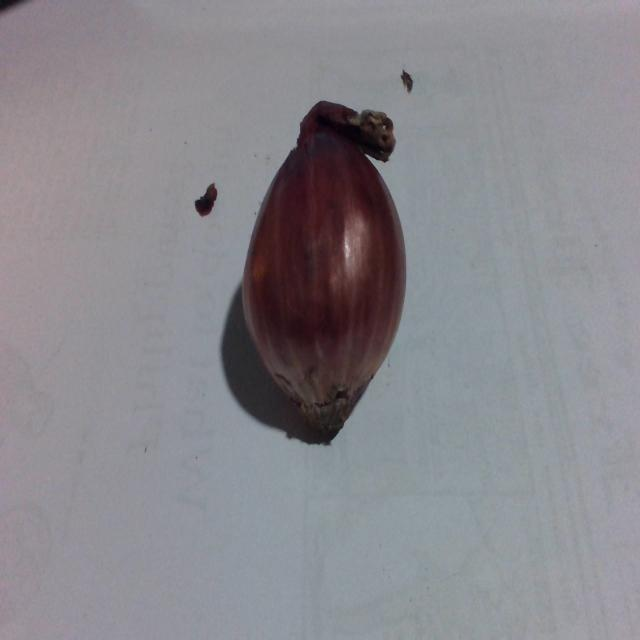onion: (234, 76, 412, 448)
